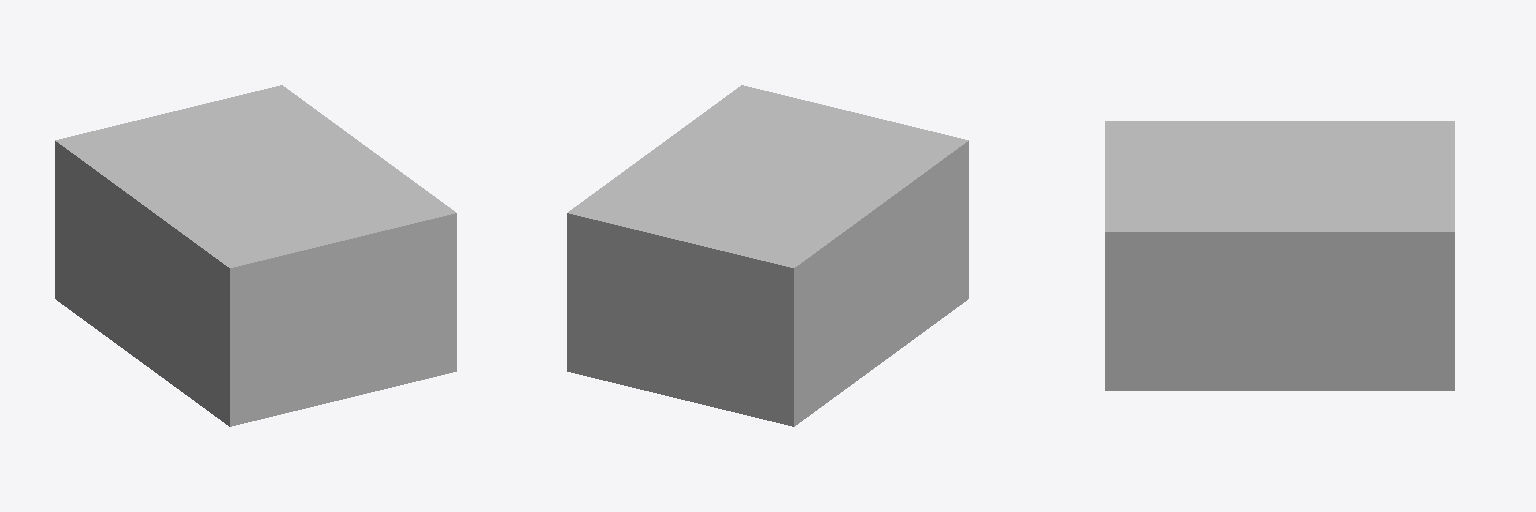
The model's file is blend1.obj.
3 renders of one model, left to right at view 1: azimuth 30°, elevation 25°; view 2: azimuth 150°, elevation 25°; view 3: azimuth 270°, elevation 25°, orthographic.
Visible parts, largest first — view 1: blend1; view 2: blend1; view 3: blend1.
Boxes of the visible parts, x1=… form: blend1: x1=55, y1=85, x2=456, y2=426; blend1: x1=567, y1=85, x2=968, y2=426; blend1: x1=1105, y1=121, x2=1454, y2=390.
Bounding box in the file's own units: 3 × 2 × 4.